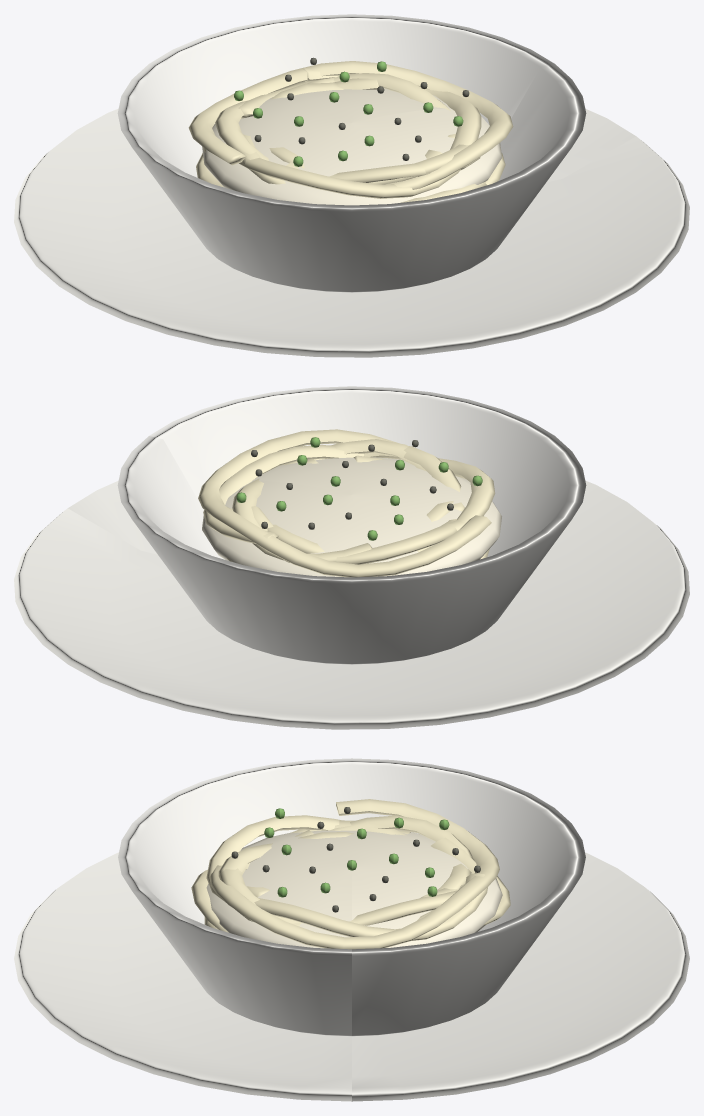
File: fettuccine-alfredo.glb
The picture shows the model from 3 angles, top to bottom: view 1: azimuth 30°, elevation 25°; view 2: azimuth 150°, elevation 25°; view 3: azimuth 270°, elevation 25°; orthographic projection.
Visible parts, largest first — view 1: fettuccine-alfredo; view 2: fettuccine-alfredo; view 3: fettuccine-alfredo.
Boxes of the visible parts, <box> form: fettuccine-alfredo: <box>14,14,689,357</box>; fettuccine-alfredo: <box>14,386,689,729</box>; fettuccine-alfredo: <box>14,758,689,1101</box>.
Size of the model in its own units: 0.26 by 0.0582 by 0.26.
